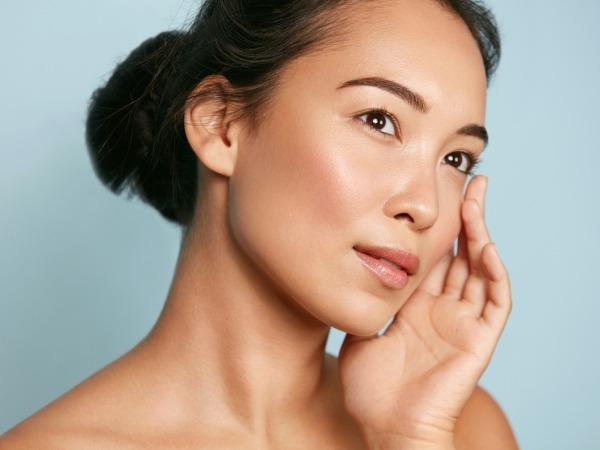Oily-Skin: (287, 124, 359, 242), (381, 56, 516, 118), (308, 278, 393, 323), (404, 141, 444, 224)
